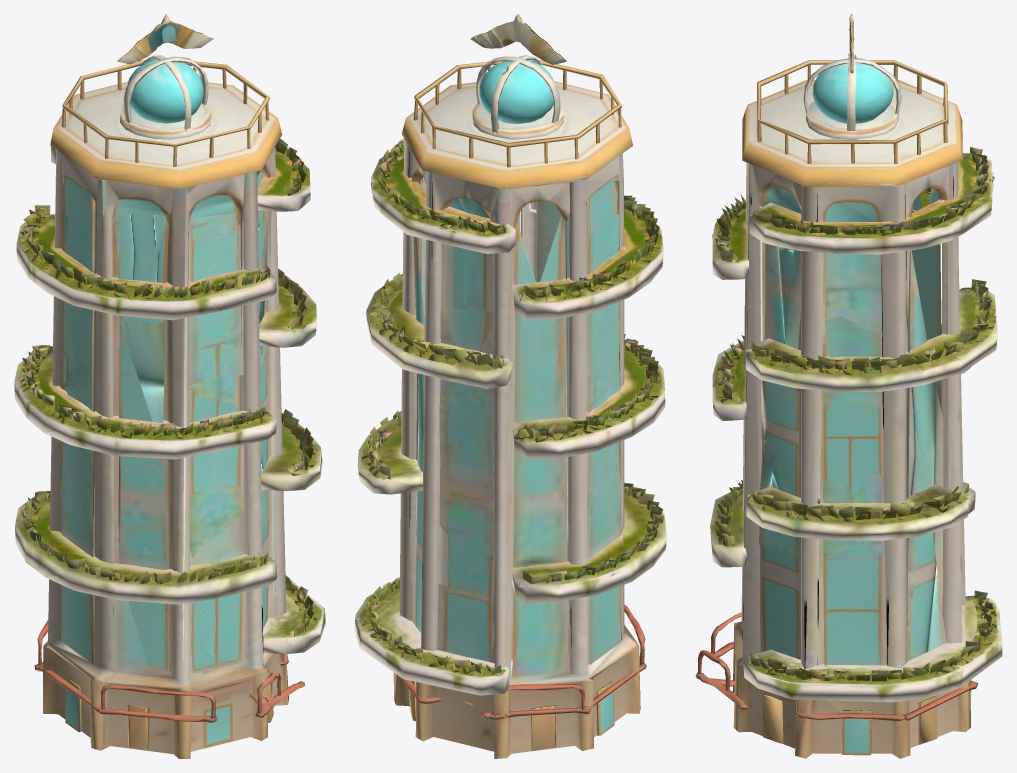
The model's file is solar-spire.glb.
The picture shows the model from 3 angles, left to right: view 1: azimuth 30°, elevation 25°; view 2: azimuth 150°, elevation 25°; view 3: azimuth 270°, elevation 25°; orthographic projection.
Visible parts, largest first — view 1: solar-spire; view 2: solar-spire; view 3: solar-spire.
Part boxes in pixels (x1,y1,x2,y2): solar-spire: [14, 14, 325, 758]; solar-spire: [354, 14, 666, 758]; solar-spire: [695, 14, 1002, 758].
Bounding box in the file's own units: 6 × 15 × 6.
Materials: 1 (1 with a texture image).
